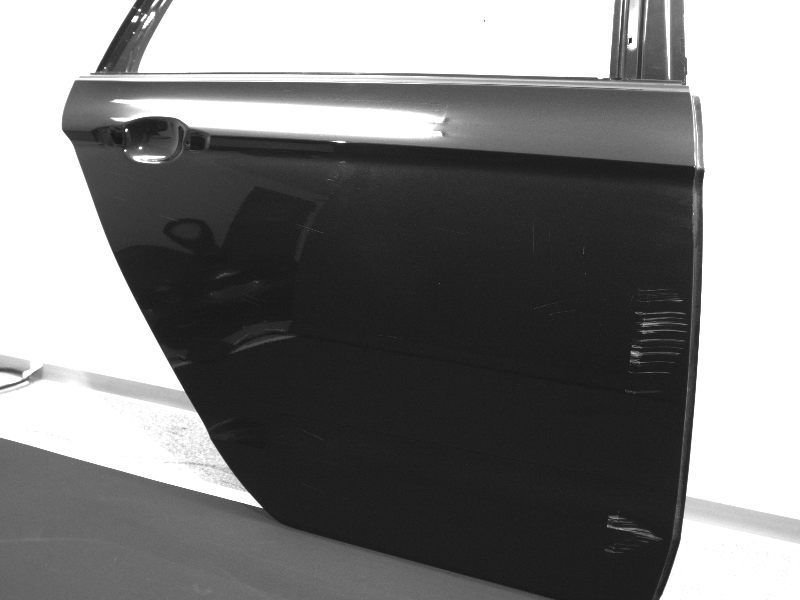scratch: (623, 286, 688, 396), (603, 515, 662, 555), (532, 299, 578, 317), (326, 159, 348, 182), (295, 428, 324, 441), (296, 222, 325, 235), (238, 293, 262, 307), (436, 226, 464, 235), (545, 222, 552, 258), (373, 332, 400, 341), (531, 221, 537, 251), (159, 214, 179, 222), (580, 246, 586, 256)
